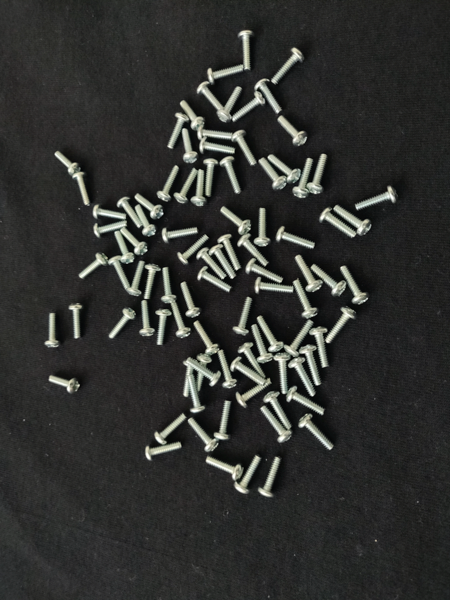shortscrew: (299, 413, 334, 451), (272, 47, 306, 85), (339, 265, 370, 306), (187, 417, 222, 453), (260, 406, 293, 444), (325, 306, 357, 345), (285, 318, 316, 358), (311, 265, 348, 298), (233, 455, 262, 497), (319, 207, 357, 239), (334, 205, 373, 236), (285, 386, 325, 416), (263, 390, 292, 431), (230, 357, 267, 388), (355, 186, 399, 212), (289, 357, 317, 397), (267, 154, 303, 185), (154, 414, 188, 446), (237, 378, 273, 408), (293, 279, 320, 319), (299, 345, 326, 385), (258, 157, 288, 193), (231, 92, 267, 122), (295, 255, 324, 292), (193, 320, 222, 356), (254, 77, 282, 114), (177, 234, 209, 266), (188, 359, 224, 387), (209, 244, 237, 280), (306, 153, 330, 195), (257, 316, 284, 353), (278, 116, 310, 147), (239, 233, 269, 266), (276, 226, 317, 250), (245, 258, 284, 283), (232, 130, 258, 167), (174, 169, 200, 206), (196, 248, 226, 280), (251, 324, 275, 364), (108, 307, 137, 340), (198, 266, 233, 293), (292, 158, 315, 199), (78, 252, 109, 282), (217, 87, 242, 124), (116, 196, 144, 229), (205, 457, 245, 480), (310, 326, 331, 369), (259, 457, 281, 498), (220, 207, 252, 235), (217, 234, 241, 271), (167, 113, 191, 150), (220, 157, 243, 195), (233, 297, 254, 337), (157, 165, 179, 203), (217, 350, 238, 389), (170, 303, 192, 340), (181, 100, 207, 131), (134, 205, 158, 238), (215, 399, 233, 442), (208, 64, 244, 85), (135, 194, 164, 220), (109, 254, 130, 289), (145, 442, 183, 461), (143, 263, 163, 299), (114, 231, 135, 265), (274, 352, 291, 394), (238, 30, 255, 72), (255, 277, 294, 295), (197, 82, 223, 109), (93, 220, 129, 239), (191, 169, 209, 207), (181, 128, 200, 164), (189, 374, 206, 414), (54, 151, 81, 176), (49, 375, 81, 396), (162, 226, 199, 244), (139, 299, 156, 338), (255, 208, 272, 247), (71, 173, 91, 206), (196, 354, 213, 392), (128, 262, 146, 297), (155, 309, 172, 345), (93, 205, 126, 223), (45, 312, 60, 349), (184, 359, 198, 398), (68, 304, 83, 340), (203, 159, 217, 197)
